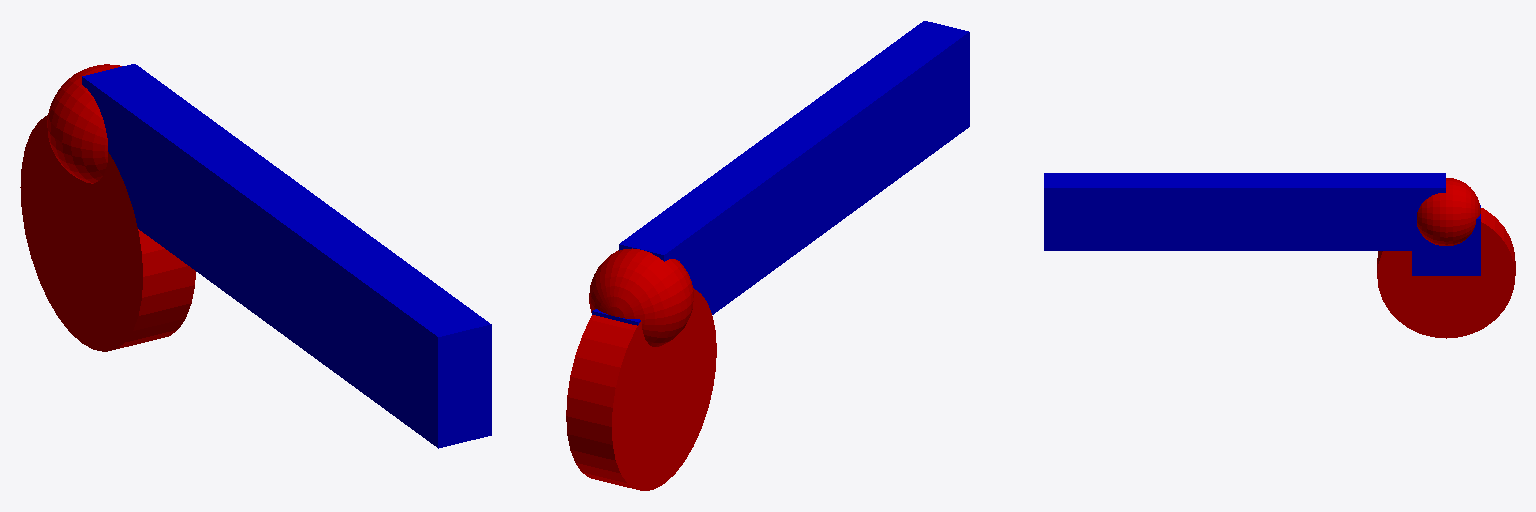
URDF robot description (TwoLinkStruct1836873191):
<?xml version="1.0"?>
<robot  name="TwoLinkStruct1836873191" >
 <material  name="blue" >
  <color  rgba="0 0 0.8 1.0" />
 </material>
 <material  name="red" >
  <color  rgba="0.8 0 0 1.0" />
 </material>
 <link  name="base_link" >
  <visual >
   <origin  rpy="0 1.5707 0"  xyz="0 0 0" />
   <material  name="red" />
   <geometry >
    <cylinder  length="0.05"  radius="0.1" />
   </geometry>
  </visual>
 </link>
 <joint  type="revolute"  name="joint1" >
  <parent  link="base_link" />
  <child  link="link1" />
  <origin  xyz="0 0 0"  rpy="0 0 0" />
  <axis  xyz="1 0 0" />
 </joint>
 <link  name="link1" >
  <inertial >
   <origin  rpy="0 0 0"  xyz="0 0 0.0449759221129255" />
   <mass  value="0.1259639877181276" />
   <inertia  ixy="0.0"  iyy="5.248499488255318e-05"  izz="0.0001111772250931766"  ixz="0.0"  ixx="0.0001111772250931766"  iyz="0.0" />
  </inertial>
  <visual >
   <origin  rpy="0 0 0"  xyz="0 0 0.0449759221129255" />
   <material  name="blue" />
   <geometry >
    <box  size="0.05 0.1 0.089951844225851" />
   </geometry>
  </visual>
 </link>
 <joint  type="fixed"  name="joint-joint-1" >
  <parent  link="link1" />
  <child  link="joint-link-1" />
  <origin  xyz="0 0 0.089951844225851"  rpy="1.5707 0 0" />
  <axis  xyz="1 0 0" />
 </joint>
 <link  name="joint-link-1" >
  <inertial >
   <origin  rpy="0 0 0"  xyz="0 0 0" />
   <mass  value="2.623694351930125" />
   <inertia  ixy="0"  iyy="0"  izz="0"  ixz="0"  ixx="0"  iyz="0" />
  </inertial>
  <visual >
   <origin  rpy="0 0 0"  xyz="0 0 0" />
   <material  name="red" />
   <geometry >
    <sphere  radius="0.05" />
   </geometry>
  </visual>
 </link>
 <joint  type="revolute"  name="joint2" >
  <parent  link="link1" />
  <child  link="link2" />
  <origin  xyz="0 0 0.089951844225851"  rpy="1.5707 0 0" />
  <axis  xyz="1 0 0" />
 </joint>
 <link  name="link2" >
  <inertial >
   <origin  rpy="0 0 0"  xyz="0 0 0.2904196309155216" />
   <mass  value="1.275502719607736" />
   <inertia  ixy="0.0"  iyy="5.248499488255318e-05"  izz="0.0035676596342845944"  ixz="0.0"  ixx="0.0035676596342845944"  iyz="0.0" />
  </inertial>
  <visual >
   <origin  rpy="0 0 0"  xyz="0 0 0.2904196309155216" />
   <material  name="blue" />
   <geometry >
    <box  size="0.05 0.1 0.5808392618310432" />
   </geometry>
  </visual>
 </link>
 <joint  type="fixed"  name="eef_joint" >
  <parent  link="link2" />
  <child  link="eef" />
  <origin  xyz="0 0 0.5808392618310432"  rpy="0 0 0" />
 </joint>
 <link  name="eef" >
  <inertial >
   <origin  rpy="0 0 0"  xyz="0 0 0" />
   <mass  value="1" />
   <inertia  ixy="0"  iyy="0"  izz="0"  ixz="0"  ixx="0"  iyz="0" />
  </inertial>
 </link>
 <transmission  name="motor1" >
  <type  xmltext="SimpleTransmission" >
   SimpleTransmission
  </type>
  <actuator  name="motor1" >
   <mechanicalreduction  xmltext="1" >
    1
   </mechanicalreduction>
  </actuator>
  <joint  name="joint1" />
 </transmission>
 <transmission  name="motor2" >
  <type  xmltext="SimpleTransmission" >
   SimpleTransmission
  </type>
  <actuator  name="motor2" >
   <mechanicalreduction  xmltext="1" >
    1
   </mechanicalreduction>
  </actuator>
  <joint  name="joint2" />
 </transmission>
</robot>

<!-- {'carti': array([-0.1 ,  0.14,  0.85]), 'cartd': array([-0.1 ,  0.32,  1.29]), 'tau_mu': 0.24882164786183864, 'b0': 0.2592552321457533, 'Km': 1.154389668124787, 'k_velocity': 26.407469884756214, 'tau_max_m': 4.671754834044007, 'omega_max_m': 6539.70757596081, 'gear_ratio': 3.625203379792202, 'Kp': 42.12140811305311, 'Kd': 96.6000106481774, 'm_m': 2.623694351930125, 'l1': 0.089951844225851, 'l2': 0.5808392618310432, 'k1': 9397.368444139202, 'k2': 143290421.1004673, 'k3': 136829342.5957796}-->

--- What the picture shows (computed from the rendered views, not written in the file) ---
Views: 3 orthographic renders of the robot side by side, from view 1: azimuth 30°, elevation 25°; view 2: azimuth 150°, elevation 25°; view 3: azimuth 270°, elevation 25°.
Robot: TwoLinkStruct1836873191 — 5 links, 4 joints (2 revolute, 2 fixed); root link base_link; default pose: all joints at 0.
Links seen in each view (by area): view 1: link2, base_link, joint-link-1; view 2: link2, base_link, joint-link-1; view 3: link2, base_link, joint-link-1, link1.
Link boxes in pixels (box(x1,y1,x2,y2)): link2: box(82, 64, 491, 448); base_link: box(20, 115, 195, 351); joint-link-1: box(47, 64, 121, 183); link2: box(619, 21, 969, 314); base_link: box(566, 288, 716, 490); joint-link-1: box(589, 248, 693, 346); link2: box(1044, 173, 1445, 250); base_link: box(1377, 208, 1515, 338); joint-link-1: box(1417, 178, 1480, 245); link1: box(1412, 205, 1480, 275).
Bounding box of the posed robot: 0.1 × 0.6808 × 0.24 m (x, y, z).
Geometry: primitives only (box / cylinder / sphere), no mesh files.
